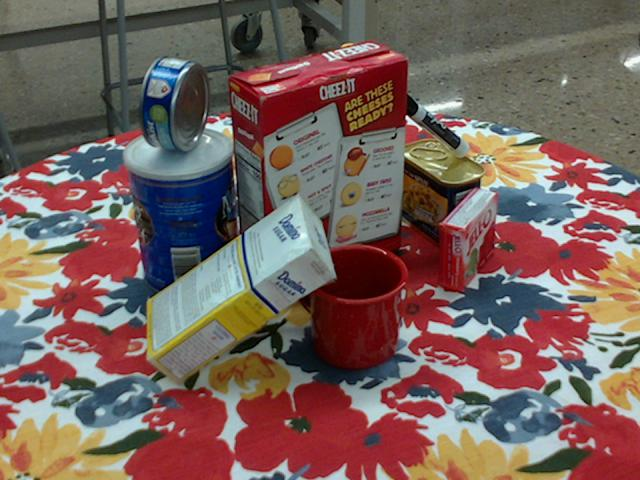cracker_box: (227, 41, 409, 297)
gelatin_box: (438, 187, 498, 292)
large_marker: (392, 90, 469, 156)
master_chef_can: (125, 127, 239, 300)
mug: (295, 242, 408, 369)
mustard_bottle: (320, 44, 385, 223)
potted_meat_can: (399, 139, 485, 247)
sugar_box: (144, 195, 335, 387)
tomato_soup_can: (235, 115, 299, 222)
tuna_fish_can: (139, 56, 207, 151)
